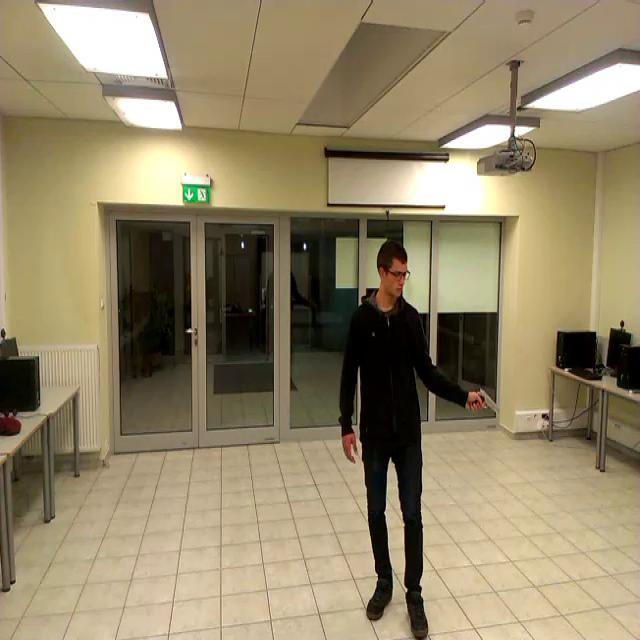Gun: (469, 387, 498, 411)
